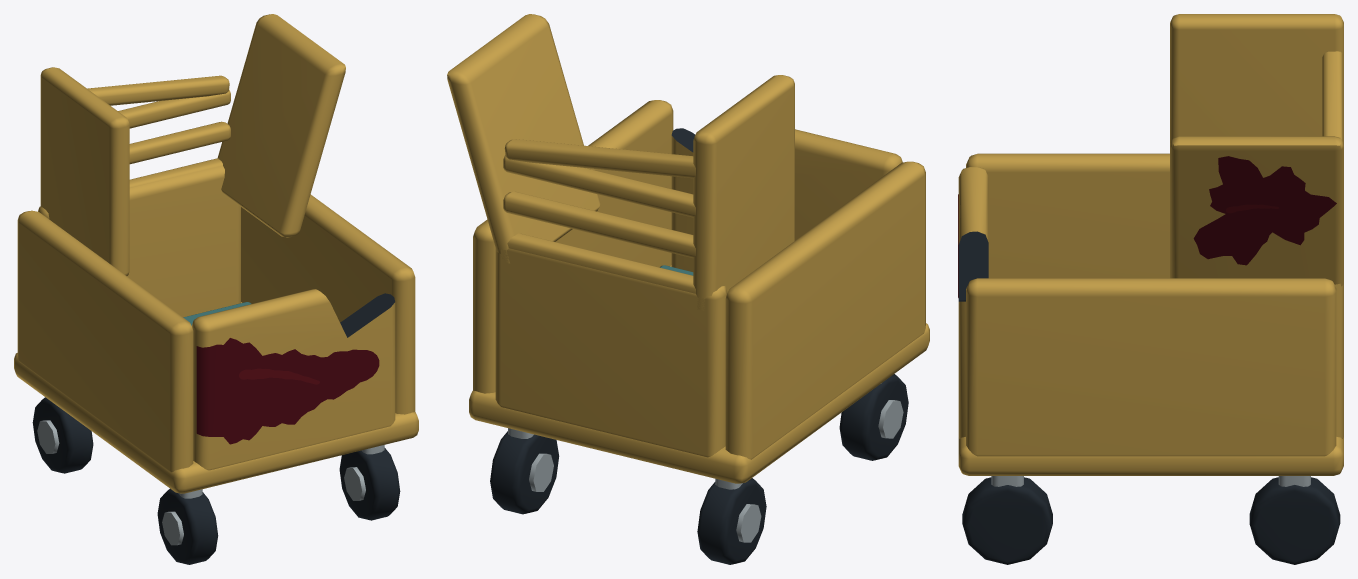
The model's file is mop_bucket.glb.
3 renders of one model, left to right at view 1: azimuth 30°, elevation 25°; view 2: azimuth 150°, elevation 25°; view 3: azimuth 270°, elevation 25°, orthographic. The views are drawn at different scales.
Parts seen in each view (by area): view 1: Outbreak_Utility_Mop_Bucket_Static; view 2: Outbreak_Utility_Mop_Bucket_Static; view 3: Outbreak_Utility_Mop_Bucket_Static.
Part boxes in pixels (x1,y1,x2,y2): Outbreak_Utility_Mop_Bucket_Static: (14,14,418,564); Outbreak_Utility_Mop_Bucket_Static: (447,14,929,564); Outbreak_Utility_Mop_Bucket_Static: (958,14,1343,564).
Size of the model in its own units: 0.4624 by 0.65 by 0.5107.
